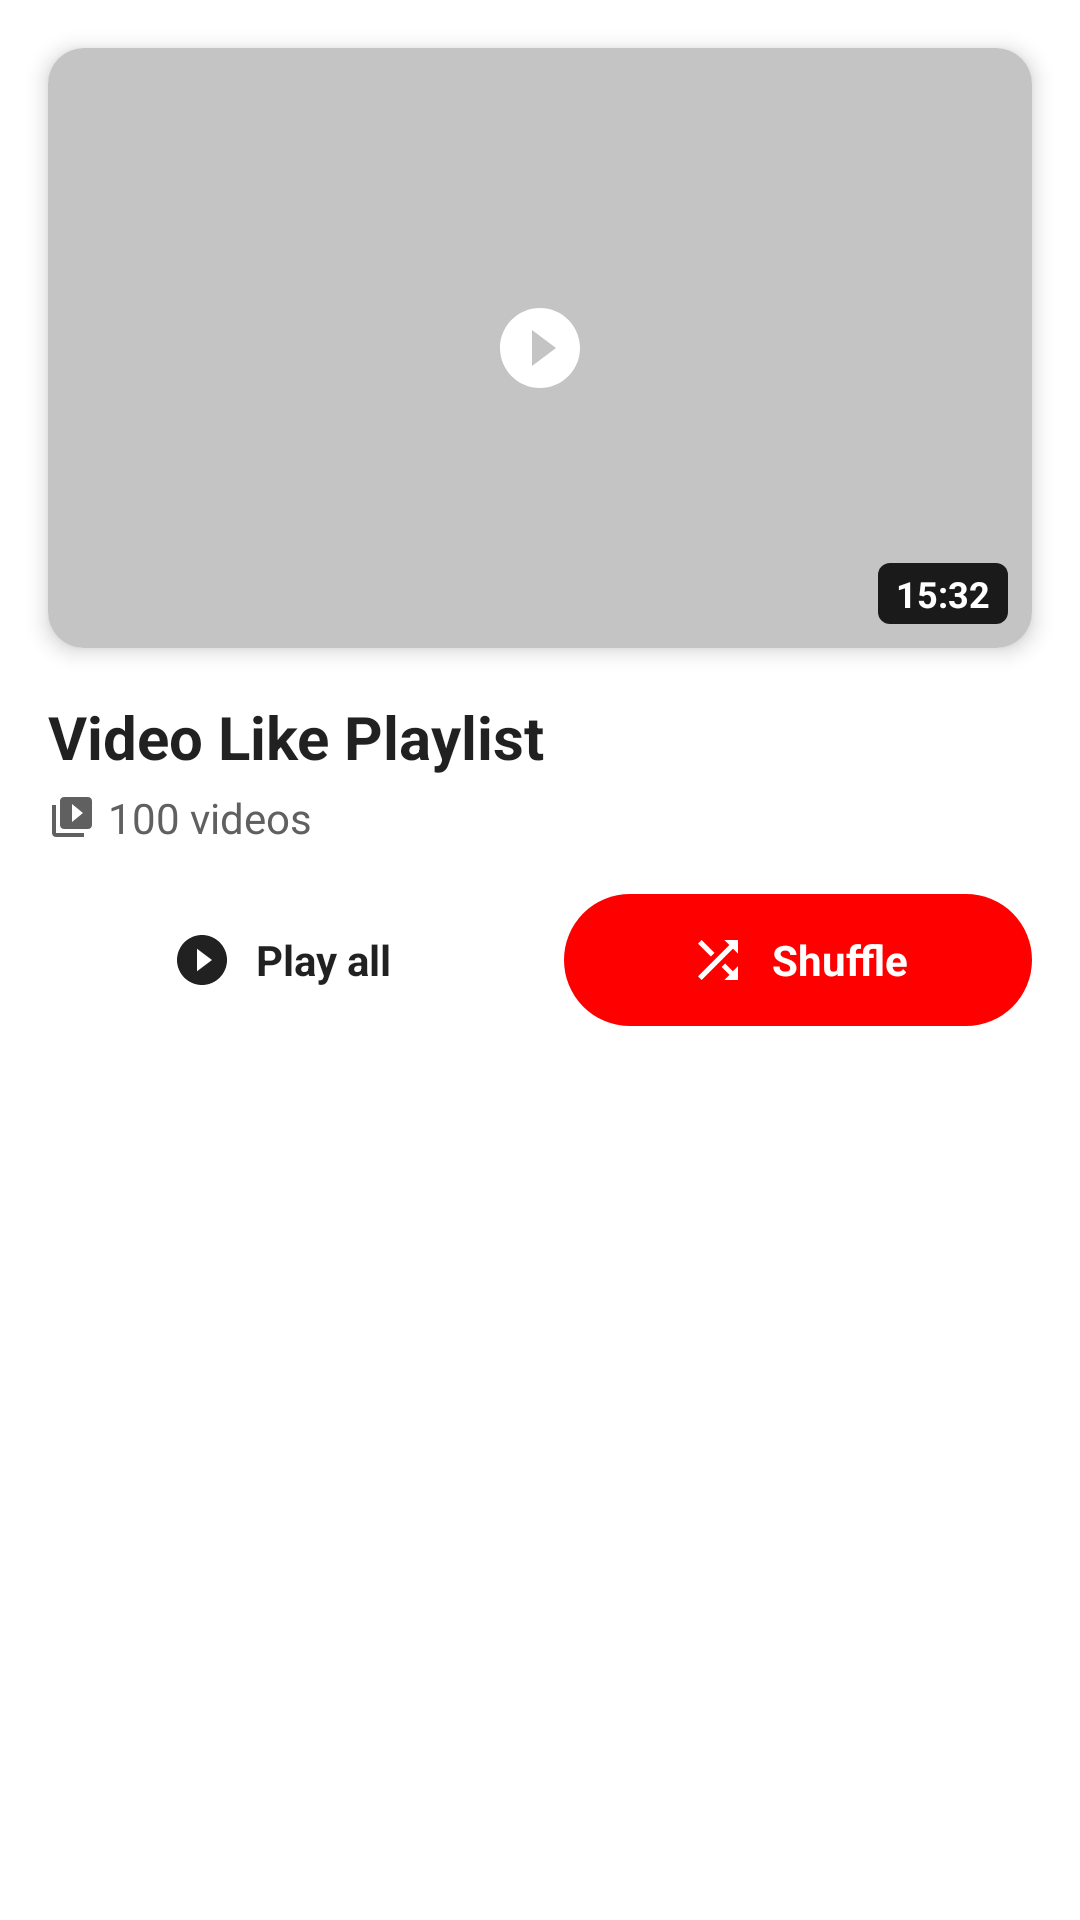

Locate icon controls on the screen. Image size 1080x1920, boxes as box=[x1, y1, x2, y2].
Library icon: box=[52, 797, 92, 837]
Play video: box=[500, 308, 580, 388]
